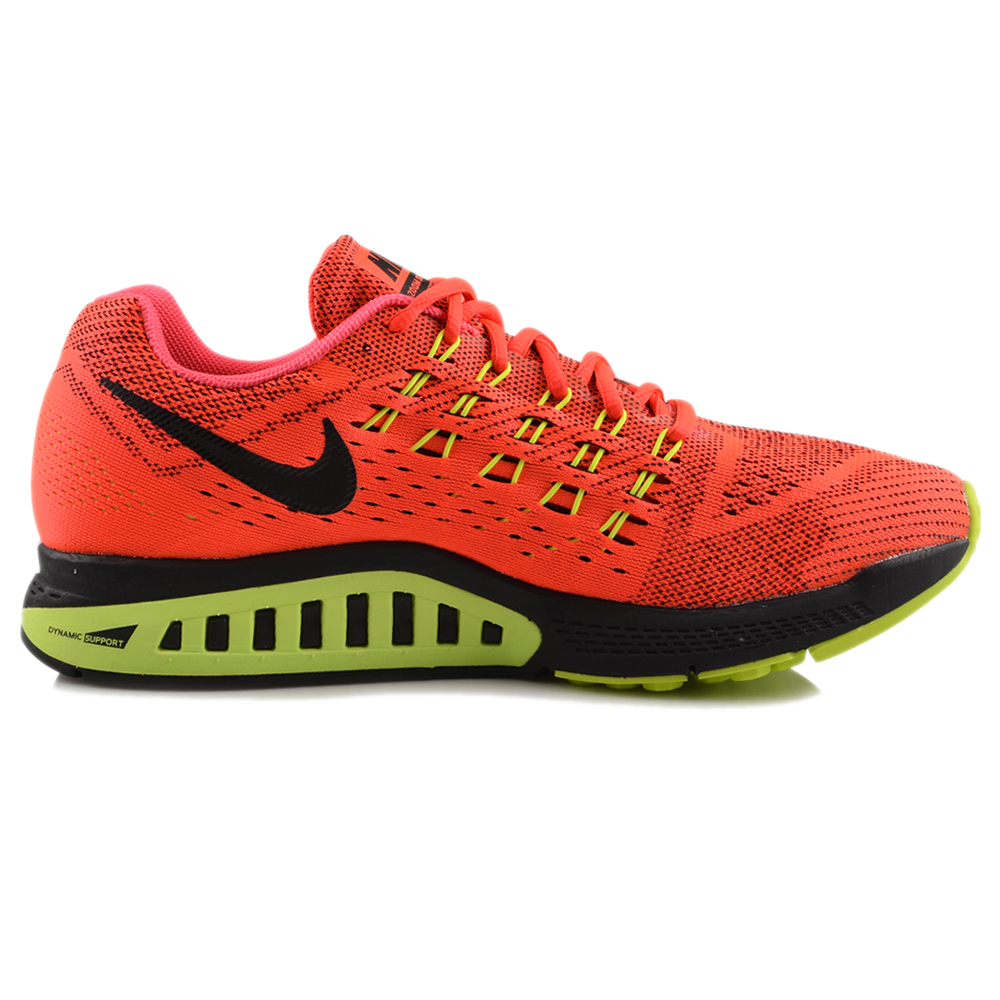Nike: (94, 372, 361, 522)
